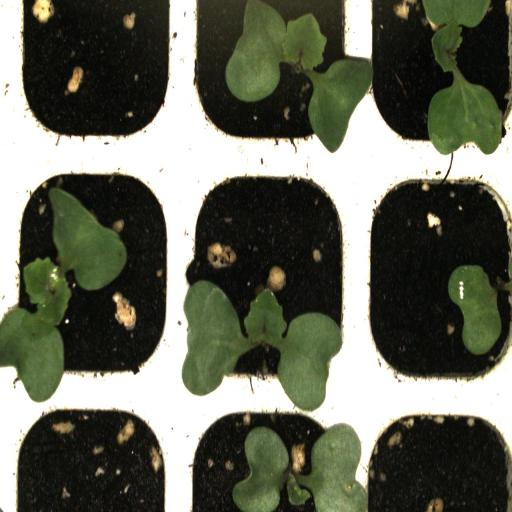Folha: (232, 424, 369, 512), (448, 265, 502, 355)
Germinacao: (175, 158, 360, 394), (10, 153, 177, 392), (182, 0, 362, 156), (367, 0, 512, 155)
